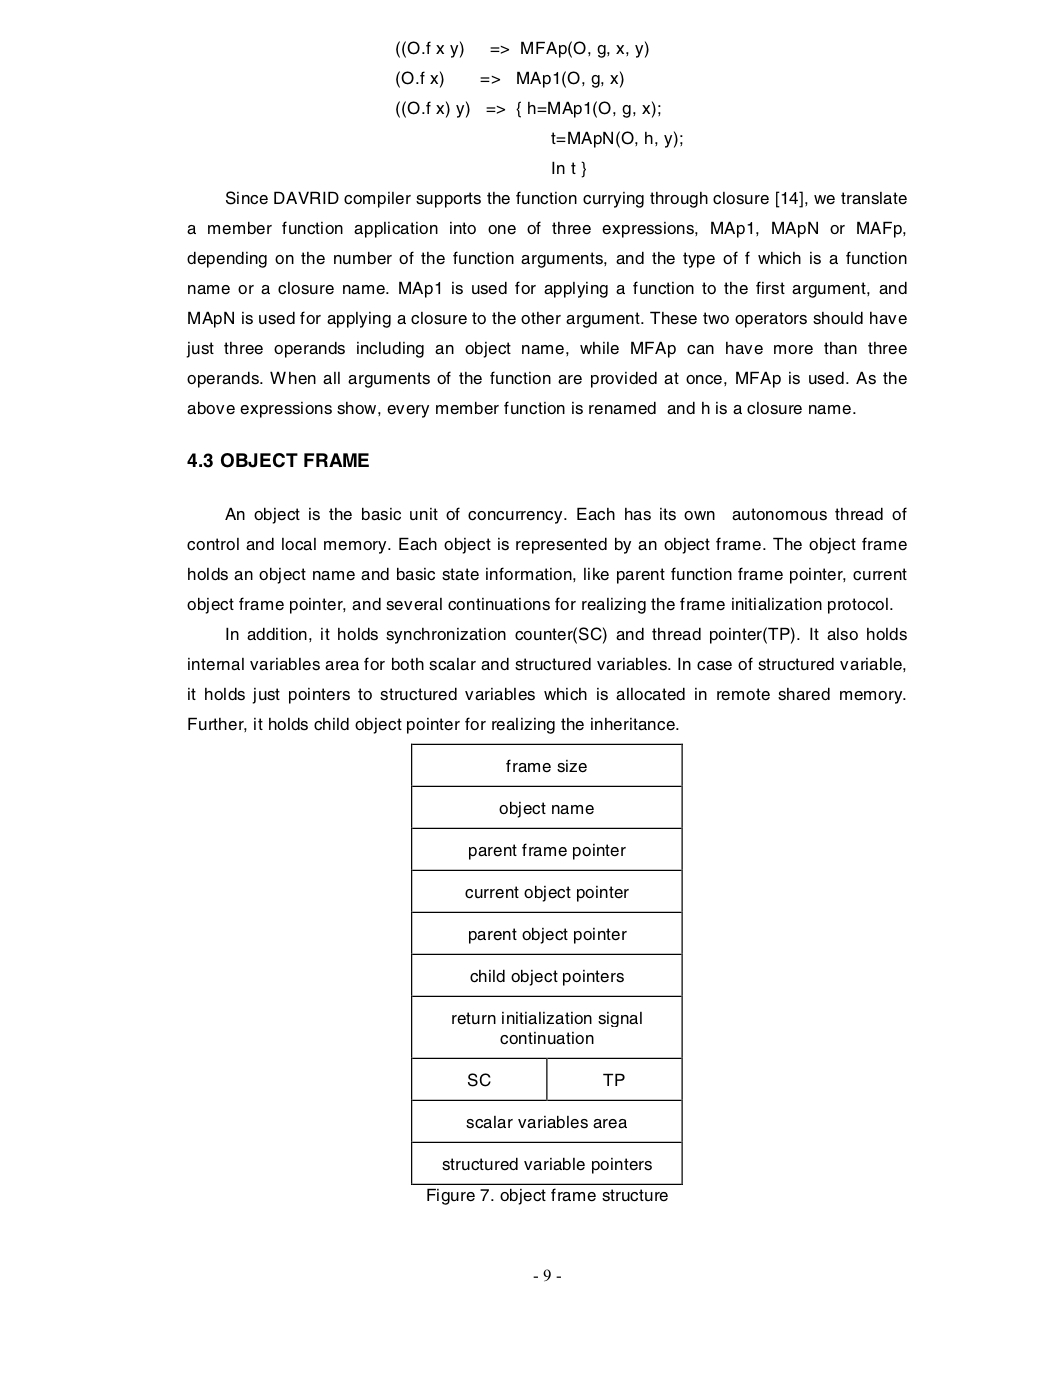Table: (411, 742, 682, 1205)
formula: (396, 100, 660, 118), (396, 40, 648, 58), (396, 70, 623, 88), (551, 130, 682, 148), (552, 160, 585, 178)
